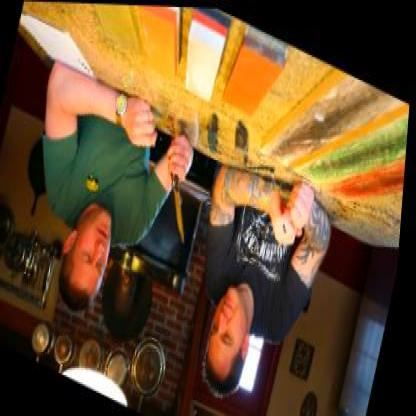knife: (150, 129, 210, 250)
